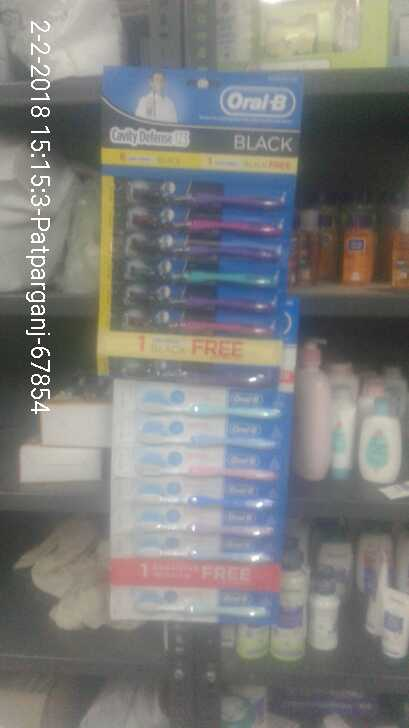oralb: (107, 387, 288, 619), (127, 175, 279, 336)
